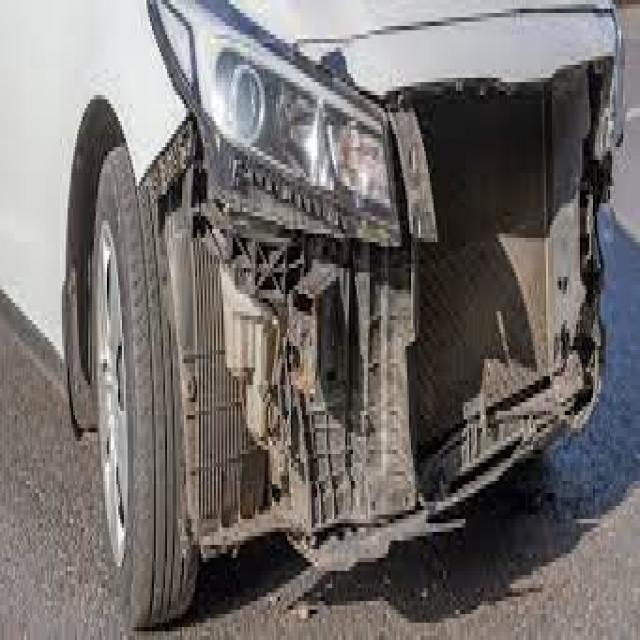moderate: (127, 0, 618, 491)
